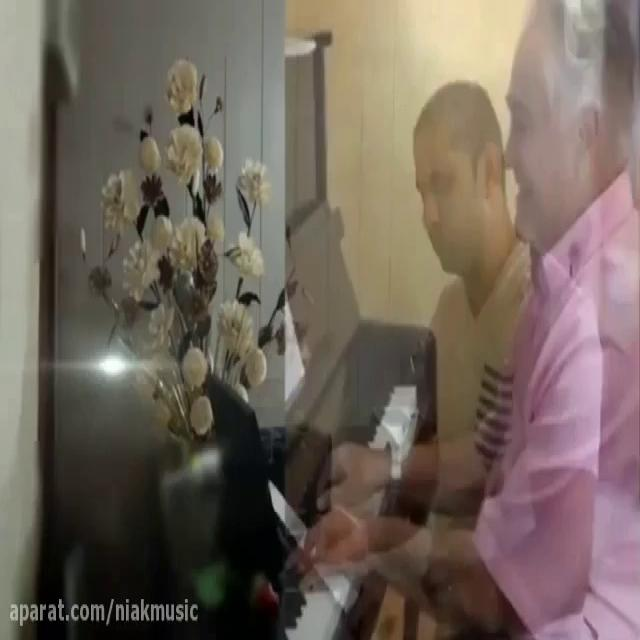Piano: (272, 373, 425, 640)
